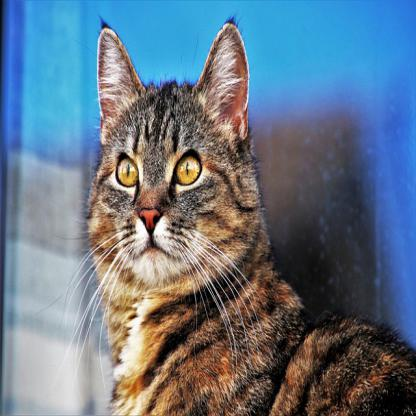cat: (83, 15, 265, 334)
